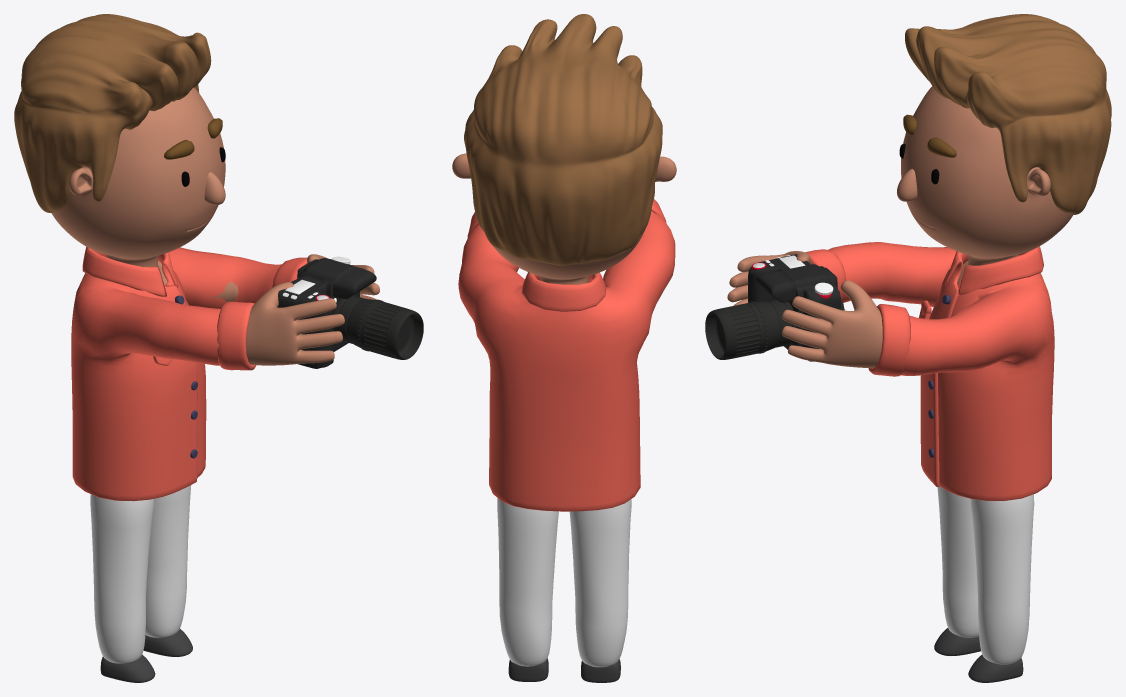
Rendered from photographe.gltf.
The picture shows the model from 3 angles, left to right: view 1: azimuth 30°, elevation 25°; view 2: azimuth 150°, elevation 25°; view 3: azimuth 270°, elevation 25°; orthographic projection.
Parts seen in each view (by area): view 1: Shirt, body.003, Hair_3, Cube.020, Cube.019, Cylinder, Plane, Cube.021, Cube.022; view 2: Shirt, Hair_3, Cube.019, Cube.020, body.003, Cube.022, Cube.021; view 3: Shirt, Hair_3, body.003, Cube.019, Cube.020, Cylinder, Plane, Cube.022, Cube.021.
Part boxes in pixels (x1,y1,x2,y2): Shirt: (71, 247, 307, 501); body.003: (51, 87, 379, 365); Hair_3: (14, 14, 211, 212); Cube.020: (90, 494, 153, 663); Cube.019: (145, 485, 191, 637); Cylinder: (334, 295, 423, 359); Plane: (277, 258, 376, 368); Cube.021: (100, 654, 155, 682); Cube.022: (143, 629, 192, 656); Shirt: (458, 199, 675, 511); Hair_3: (464, 14, 662, 265); Cube.019: (497, 498, 558, 666); Cube.020: (569, 499, 631, 667); body.003: (452, 153, 676, 284); Cube.022: (508, 658, 548, 681); Cube.021: (581, 659, 620, 682); Shirt: (805, 242, 1054, 500); Hair_3: (905, 14, 1111, 214); body.003: (727, 86, 1072, 368); Cube.019: (970, 494, 1034, 664); Cube.020: (937, 486, 979, 637); Cylinder: (705, 299, 797, 359); Plane: (748, 254, 844, 361); Cube.022: (968, 654, 1023, 682); Cube.021: (934, 628, 980, 655).
Size of the model in its own units: 4.37 by 10.47 by 6.05.
